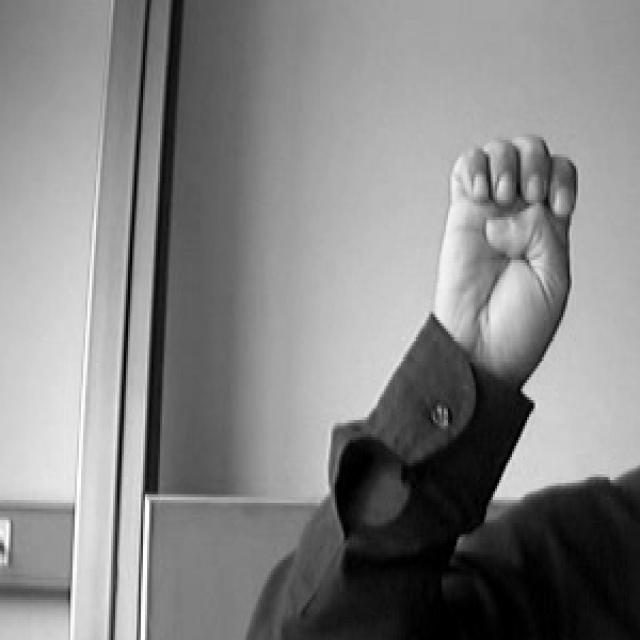E: (398, 100, 592, 379)
